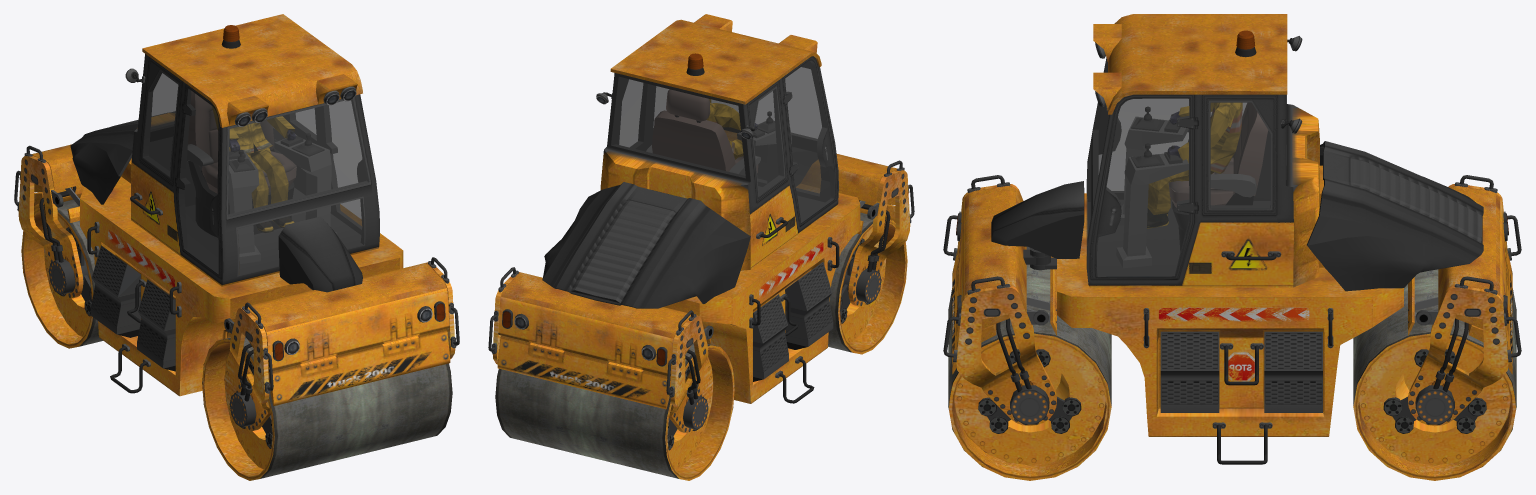
Rendered from Универсал_900.glb.
3 renders of one model, left to right at view 1: azimuth 30°, elevation 25°; view 2: azimuth 150°, elevation 25°; view 3: azimuth 270°, elevation 25°, orthographic. The views are drawn at different scales.
Parts seen in each view (by area): view 1: Body_1_Textures 1_0, Body_2_Textures 2_0, Body_1_Glass_0, Wheel_F_Textures 2_0, Body_1_Textures 4_0, Body_3_Textures 2_0, Wheel_B_Textures 2_0, Body_1_Textures. Engineer_0; view 2: Body_1_Textures 1_0, Body_3_Textures 2_0, Body_1_Glass_0, Wheel_B_Textures 2_0, Body_1_Textures 4_0, Body_2_Textures 2_0, Wheel_F_Textures 2_0, Body_1_Textures. Engineer_0; view 3: Body_1_Textures 1_0, Body_1_Glass_0, Wheel_B_Textures 2_0, Wheel_F_Textures 2_0, Body_2_Textures 2_0, Body_1_Textures 4_0, Body_3_Textures 2_0, Body_1_Textures. Engineer_0.
Boxes of the visible parts, x1,y1,x2,y2 form: Body_1_Textures 1_0: [70, 14, 403, 396]; Body_2_Textures 2_0: [224, 257, 459, 430]; Body_1_Glass_0: [143, 71, 368, 275]; Wheel_F_Textures 2_0: [202, 337, 452, 480]; Body_1_Textures 4_0: [143, 71, 368, 275]; Body_3_Textures 2_0: [14, 144, 89, 298]; Wheel_B_Textures 2_0: [21, 198, 102, 348]; Body_1_Textures. Engineer_0: [212, 106, 295, 232]; Body_1_Textures 1_0: [542, 14, 860, 403]; Body_3_Textures 2_0: [488, 267, 713, 432]; Body_1_Glass_0: [611, 61, 834, 222]; Wheel_B_Textures 2_0: [495, 343, 734, 480]; Body_1_Textures 4_0: [607, 61, 834, 222]; Body_2_Textures 2_0: [724, 130, 914, 306]; Wheel_F_Textures 2_0: [828, 212, 907, 354]; Body_1_Textures. Engineer_0: [706, 99, 757, 159]; Body_1_Textures 1_0: [991, 14, 1483, 464]; Body_1_Glass_0: [1086, 59, 1286, 276]; Wheel_B_Textures 2_0: [1353, 269, 1516, 480]; Wheel_F_Textures 2_0: [948, 264, 1111, 480]; Body_2_Textures 2_0: [943, 175, 1056, 425]; Body_1_Textures 4_0: [1086, 59, 1286, 276]; Body_3_Textures 2_0: [1408, 175, 1521, 426]; Body_1_Textures. Engineer_0: [1147, 102, 1242, 228].
Size of the model in its own units: 0.5405 by 0.8117 by 1.07.
Materials: 5 (4 with a texture image).
